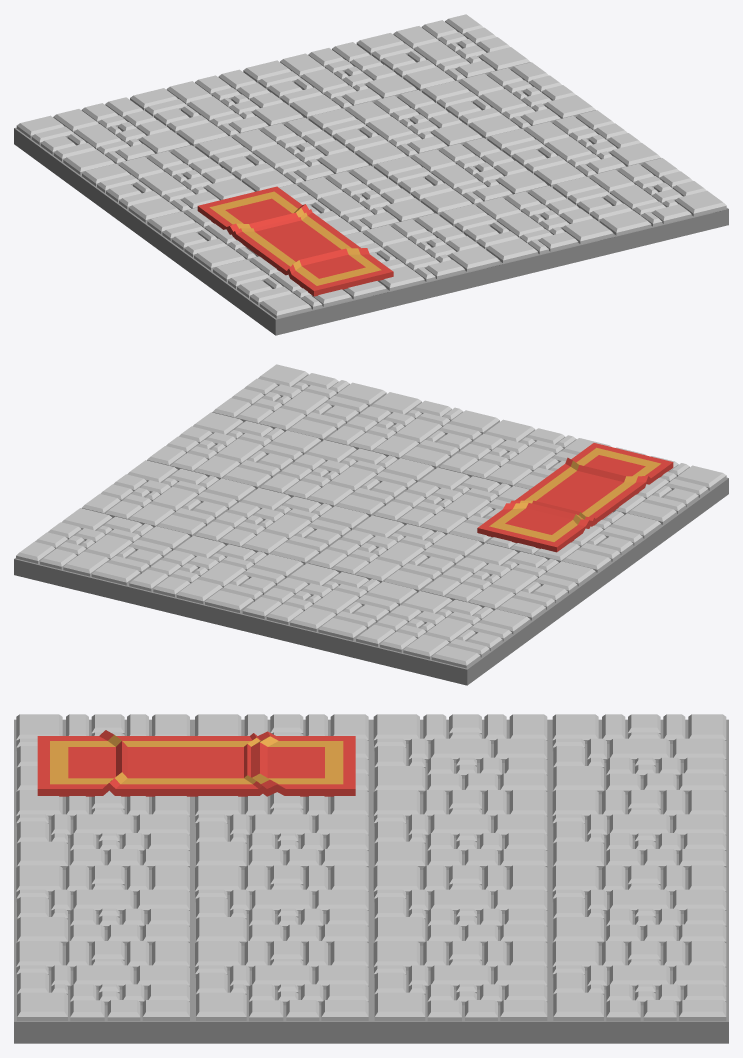
Rendered from floor.fbx.
The picture shows the model from 3 angles, top to bottom: view 1: azimuth 30°, elevation 25°; view 2: azimuth 150°, elevation 25°; view 3: azimuth 270°, elevation 25°; orthographic projection. The views are drawn at different scales.
Visible parts, largest first — view 1: floor; view 2: floor; view 3: floor.
Boxes of the visible parts, <box> form: floor: <box>14,14,728,335</box>; floor: <box>14,364,728,685</box>; floor: <box>14,714,728,1043</box>.
Size of the model in its own units: 800 by 52.96 by 800.
